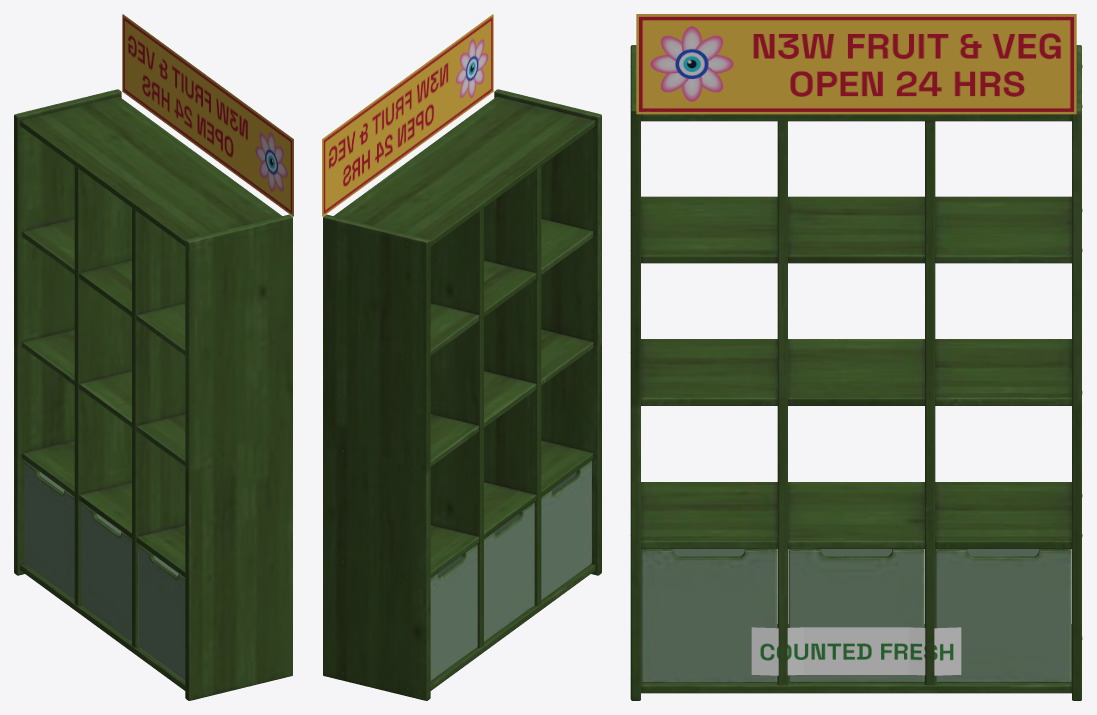
The model's file is nyb_heat_fruitstand.glb.
3 views of the same model, side by side, from view 1: azimuth 30°, elevation 25°; view 2: azimuth 150°, elevation 25°; view 3: azimuth 270°, elevation 25° (orthographic). The views are drawn at different scales.
Parts seen in each view (by area): view 1: wooden_display_shelves_01, add_lbl_8999404553.png; view 2: wooden_display_shelves_01, add_lbl_8999404553.png; view 3: wooden_display_shelves_01, add_lbl_8999404553.png, stk_lbl_b359d13b16.png.
Part boxes in pixels (x1,y1,x2,y2): wooden_display_shelves_01: (14,89,292,700); add_lbl_8999404553.png: (122,14,293,216); wooden_display_shelves_01: (323,89,601,700); add_lbl_8999404553.png: (322,14,493,216); wooden_display_shelves_01: (630,45,1082,700); add_lbl_8999404553.png: (636,14,1076,114); stk_lbl_b359d13b16.png: (751,627,961,675).
Bounding box in the file's own units: 0.3801 × 1.81 × 1.08.
3 materials, 3 textured.
